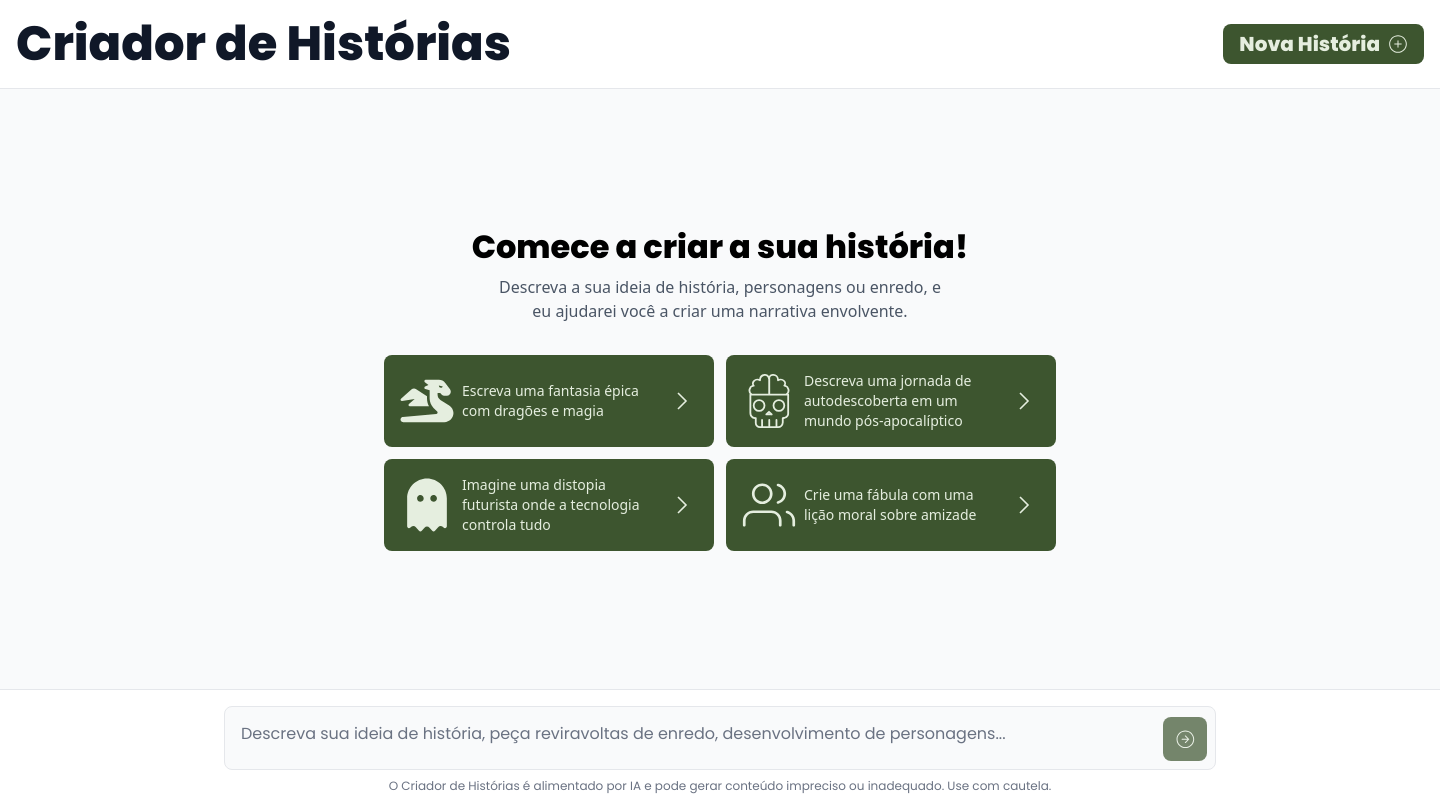
it: CreateStory › deve exibir mensagem de erro ao falhar
In the text box with placeholder "Descreva sua ideia de história": x=694, y=735 [233, 715, 1155, 755], type "Teste"
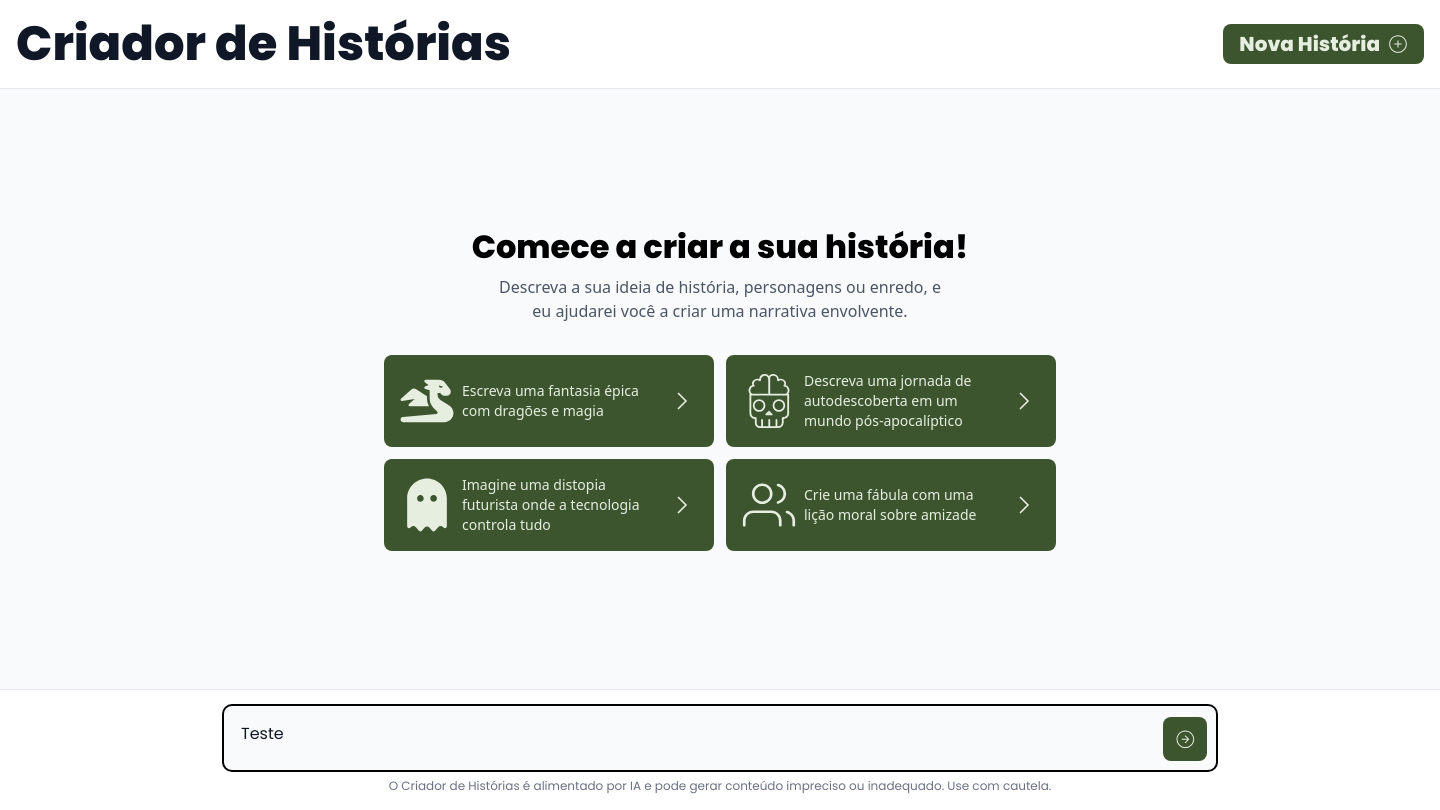
Click the button named "enviar mensagem": x=1185, y=739 [1163, 717, 1207, 761]
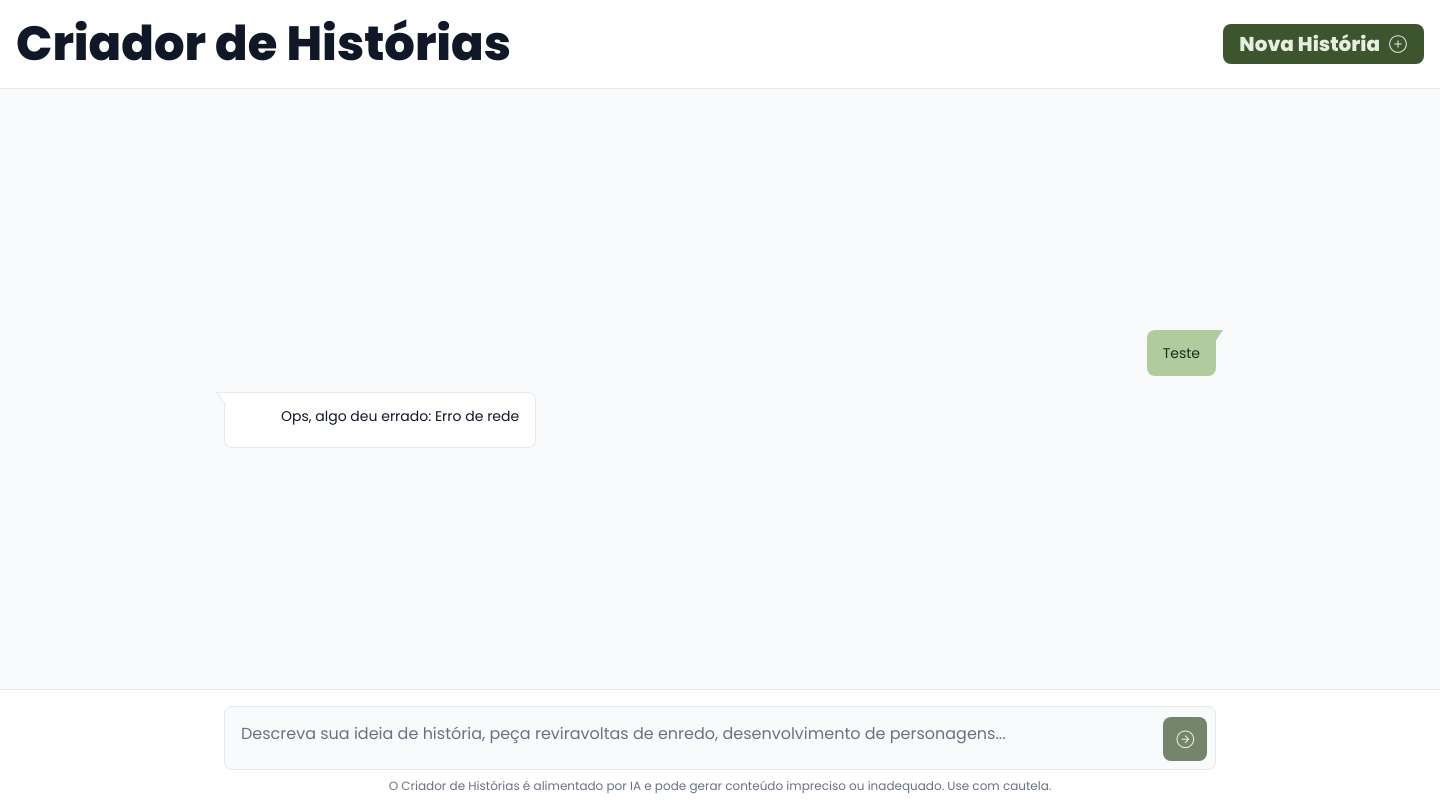
Expected: the text "Ops, algo deu errado: Erro de rede" is shown, [281, 405, 519, 428]
